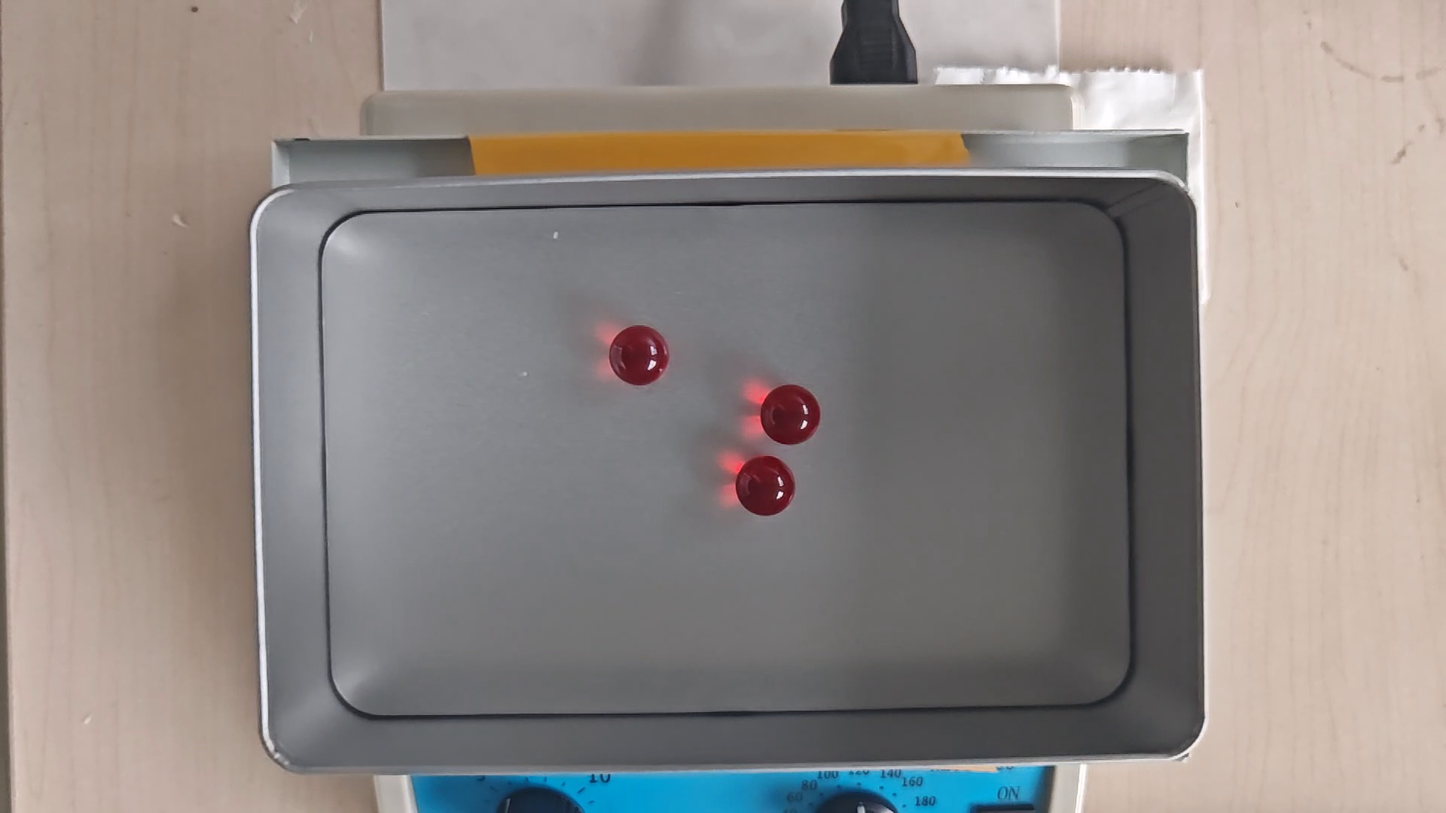ball: (609, 322, 673, 385), (734, 456, 797, 517), (759, 385, 819, 444)
container: (324, 201, 1130, 714)
